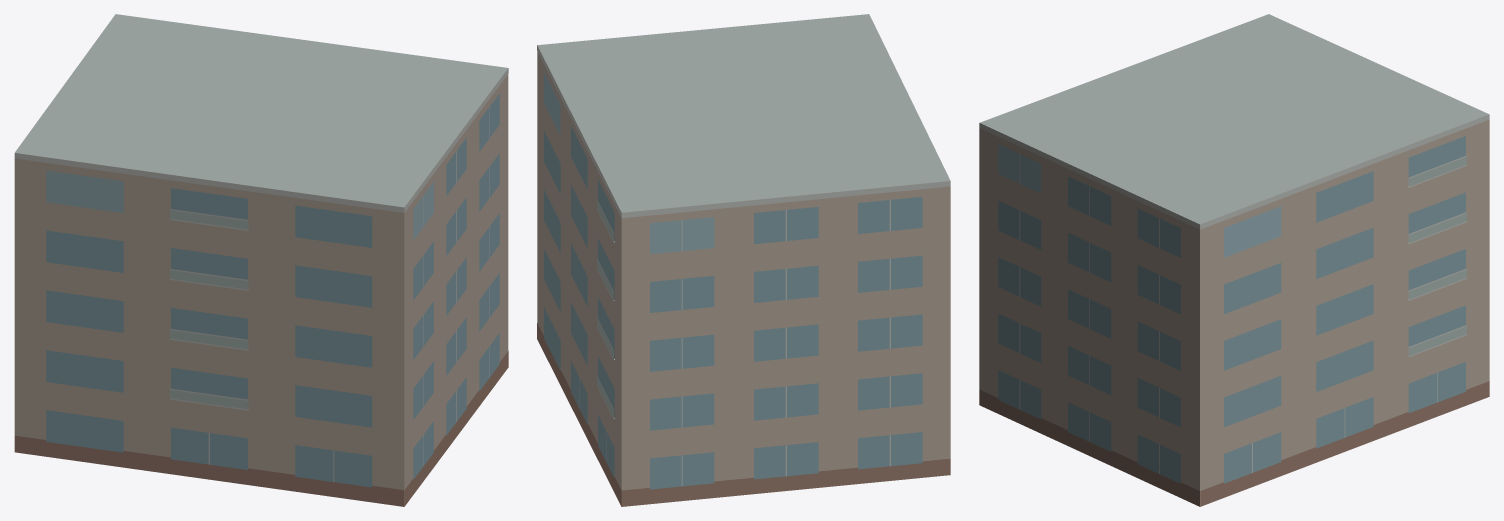
The model's file is survey-upis-32814382.glb.
3 renders of one model, left to right at view 1: azimuth 30°, elevation 25°; view 2: azimuth 150°, elevation 25°; view 3: azimuth 270°, elevation 25°, orthographic. The views are drawn at different scales.
Parts seen in each view (by area): view 1: survey-upis-32814382.tmp; view 2: survey-upis-32814382.tmp; view 3: survey-upis-32814382.tmp.
Part boxes in pixels (box(x1,y1,x2,y2)): survey-upis-32814382.tmp: box(14, 14, 508, 506); survey-upis-32814382.tmp: box(537, 14, 950, 506); survey-upis-32814382.tmp: box(979, 14, 1489, 506).
Bounding box in the file's own units: 21.11 × 13.2 × 21.62.
